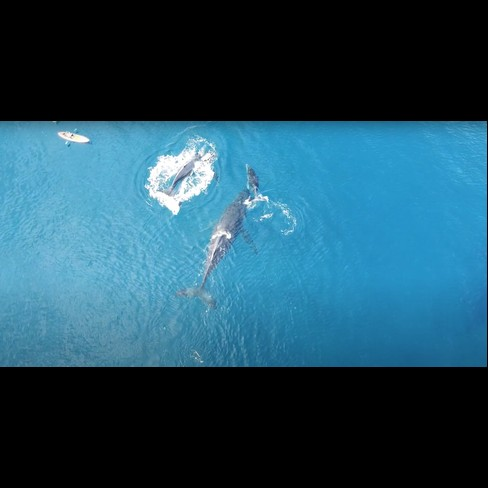hump: (176, 182, 261, 316), (152, 135, 221, 214), (237, 157, 271, 213)
